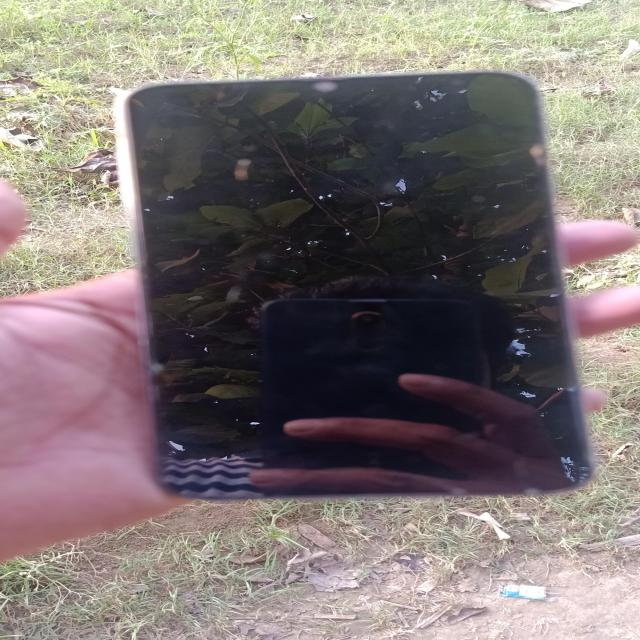mobile: (125, 54, 612, 540)
